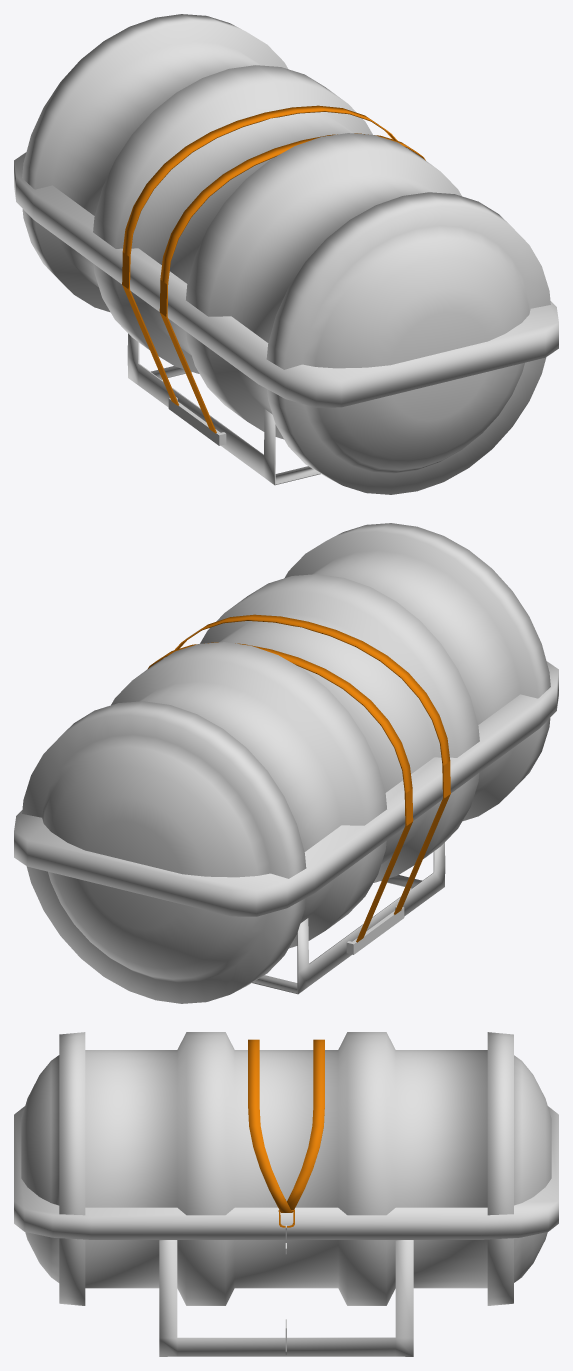
The model's file is Scene 2 (Liferaft).glb.
3 views of the same model, one above another, from view 1: azimuth 30°, elevation 25°; view 2: azimuth 150°, elevation 25°; view 3: azimuth 270°, elevation 25° (orthographic). The views are drawn at different scales.
Parts seen in each view (by area): view 1: Liferaft - 1, Liferaft.001; view 2: Liferaft - 1, Liferaft.001; view 3: Liferaft - 1, Liferaft.001.
Part boxes in pixels (x1,y1,x2,y2): Liferaft - 1: (14, 14, 558, 494); Liferaft.001: (122, 105, 425, 485); Liferaft - 1: (14, 523, 558, 1003); Liferaft.001: (148, 614, 450, 994); Liferaft - 1: (14, 1032, 558, 1305); Liferaft.001: (159, 1039, 413, 1356).
Bounding box in the file's own units: 2.45 × 2.4 × 4.57.
